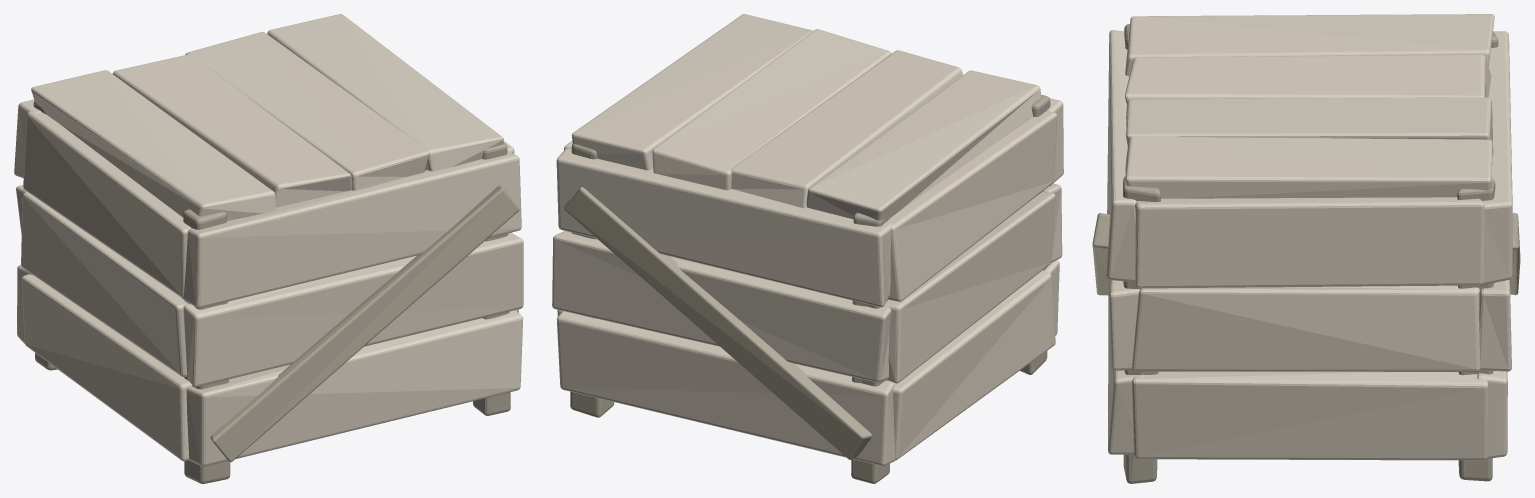
File: SM_WLA_Crate_A.fbx
The picture shows the model from 3 angles, left to right: view 1: azimuth 30°, elevation 25°; view 2: azimuth 150°, elevation 25°; view 3: azimuth 270°, elevation 25°; orthographic projection. The views are drawn at different scales.
Visible parts, largest first — view 1: SM_WLA_Crate_A; view 2: SM_WLA_Crate_A; view 3: SM_WLA_Crate_A.
Boxes of the visible parts, x1,y1,x2,y2 form: SM_WLA_Crate_A: [14, 14, 523, 483]; SM_WLA_Crate_A: [552, 14, 1063, 483]; SM_WLA_Crate_A: [1092, 14, 1520, 483].
Size of what is drawn, in the model's own units: 0.8877 by 0.8961 by 0.7036.
